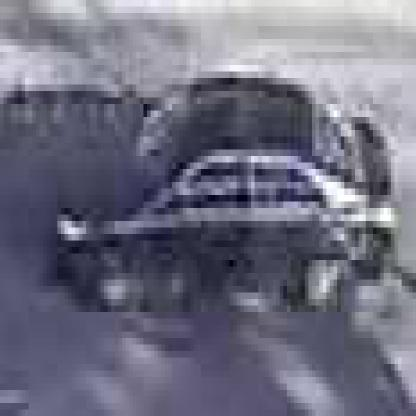car: (66, 79, 399, 319)
